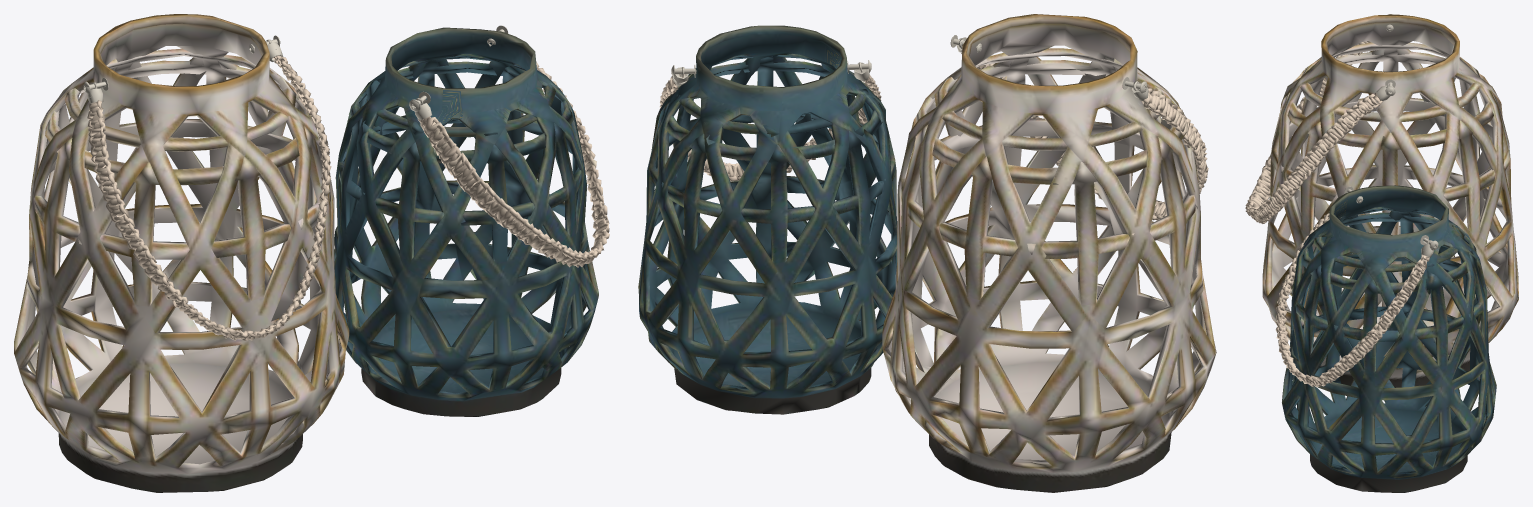
3 views of the same model, side by side, from view 1: azimuth 30°, elevation 25°; view 2: azimuth 150°, elevation 25°; view 3: azimuth 270°, elevation 25° (orthographic). The views are drawn at different scales.
Parts seen in each view (by area): view 1: RootNode; view 2: RootNode; view 3: RootNode.
Part boxes in pixels (x1=…): RootNode: x1=14, y1=14, x2=609, y2=492; RootNode: x1=638, y1=14, x2=1216, y2=492; RootNode: x1=1245, y1=14, x2=1518, y2=492.
Bounding box in the file's own units: 0.4389 × 0.3071 × 0.2452.
Materials: 1 (1 with a texture image).
